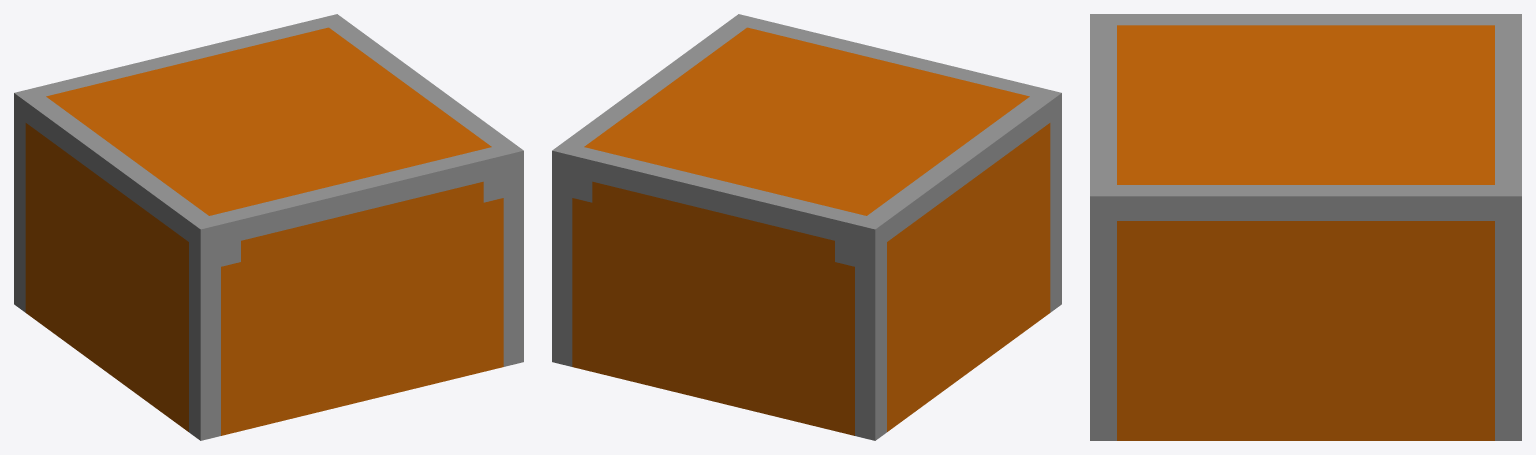
Rendered from ChestBody.glb.
The picture shows the model from 3 angles, left to right: view 1: azimuth 30°, elevation 25°; view 2: azimuth 150°, elevation 25°; view 3: azimuth 270°, elevation 25°; orthographic projection. The views are drawn at different scales.
Parts seen in each view (by area): view 1: Asset3DLoader.sceneRoot; view 2: Asset3DLoader.sceneRoot; view 3: Asset3DLoader.sceneRoot.
Part boxes in pixels (box(x1,y1,x2,y2)): Asset3DLoader.sceneRoot: box(14, 14, 523, 440); Asset3DLoader.sceneRoot: box(552, 14, 1061, 440); Asset3DLoader.sceneRoot: box(1090, 14, 1521, 440).
Bounding box in the file's own units: 1.6 × 1 × 1.6.
Materials: 1 (1 with a texture image).
